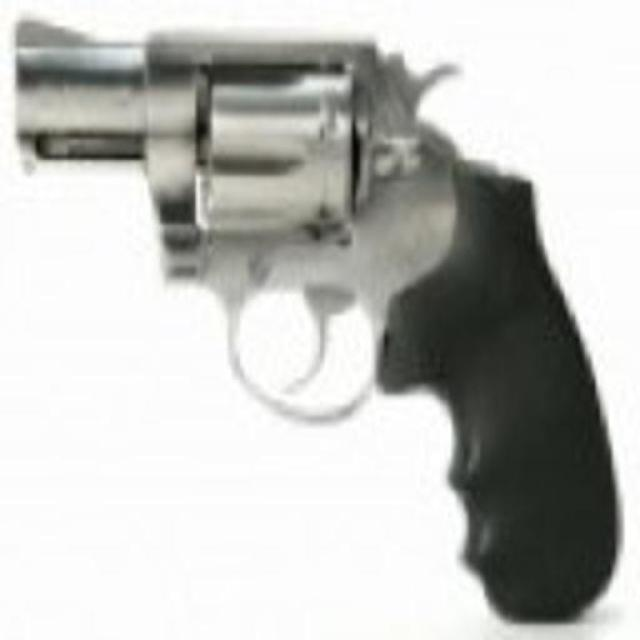pistol: (11, 15, 623, 629)
